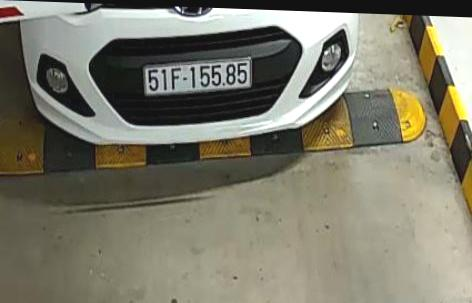License_Plate: (142, 54, 259, 104)
